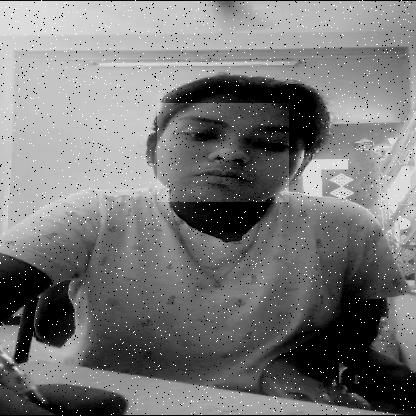Normal: (157, 103, 288, 202)
